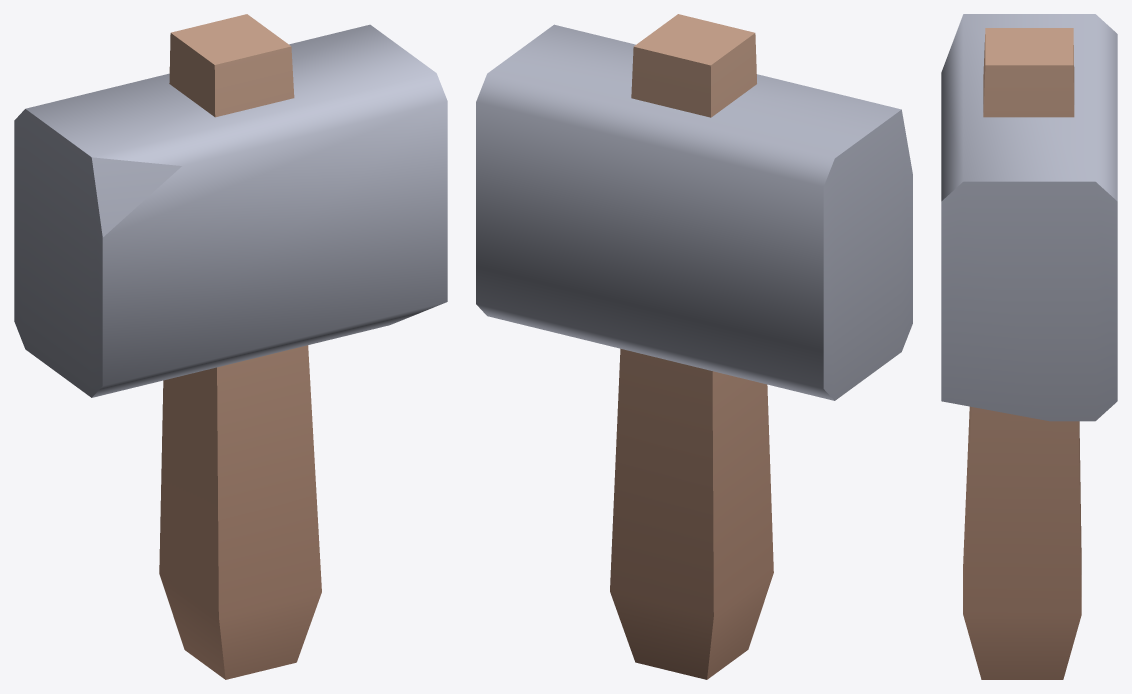
The model's file is tool-hammer.glb.
The picture shows the model from 3 angles, left to right: view 1: azimuth 30°, elevation 25°; view 2: azimuth 150°, elevation 25°; view 3: azimuth 270°, elevation 25°; orthographic projection.
Visible parts, largest first — view 1: tool-hammer; view 2: tool-hammer; view 3: tool-hammer.
Part boxes in pixels (box(x1,y1,x2,y2)): tool-hammer: box(14, 14, 447, 679); tool-hammer: box(476, 14, 912, 679); tool-hammer: box(941, 14, 1117, 679).
Size of the model in its own units: 0.09 by 0.1535 by 0.04.
